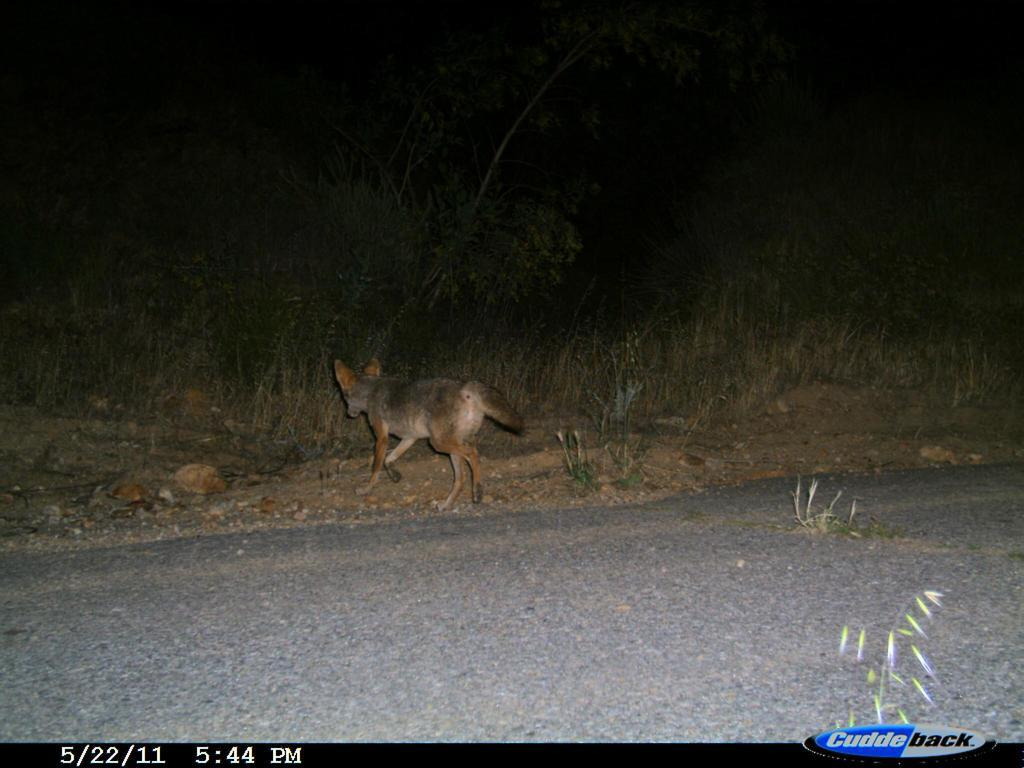coyote: (327, 350, 529, 515)
